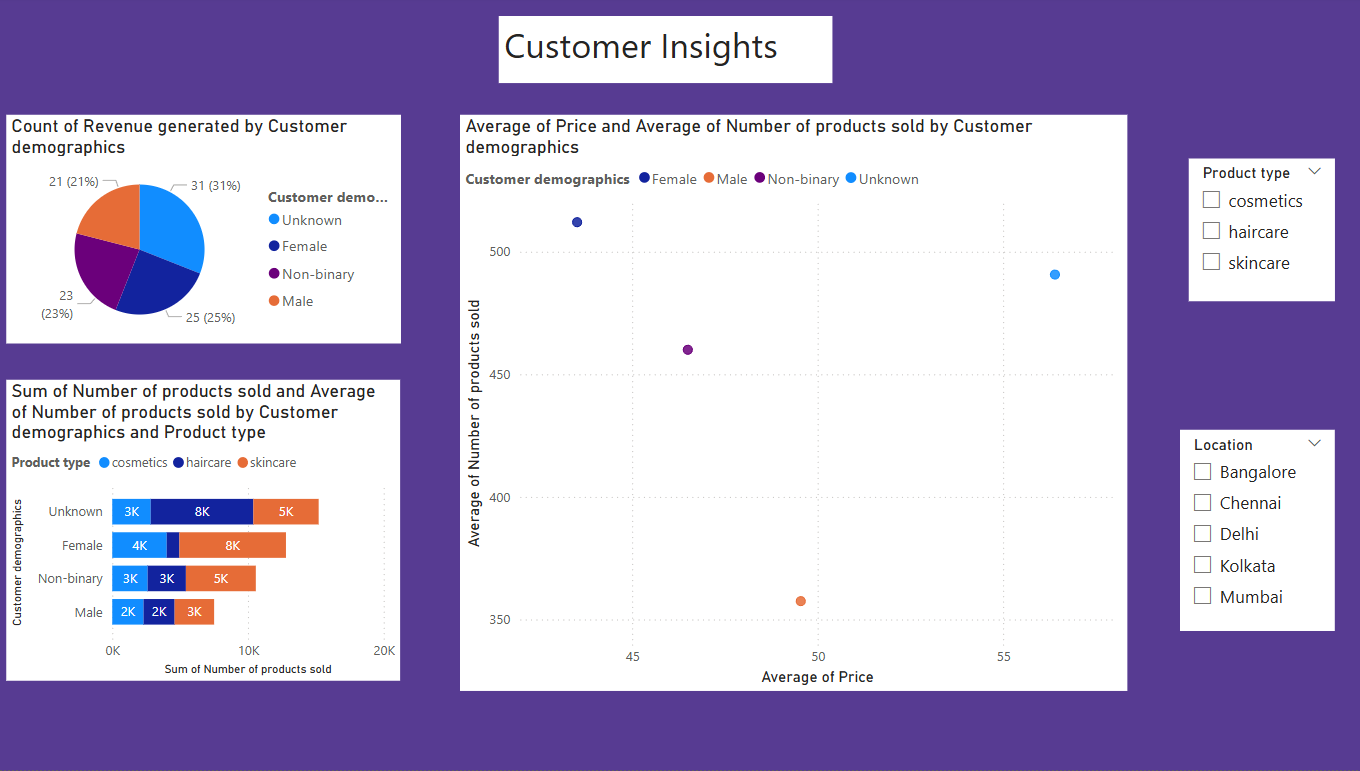

This screenshot's page, from the dashboard's own definition file:
{"tool":"powerbi","page":{"name":"Customer Insights","canvas":[1280,720],"ordinal":3},"visuals":[{"type":"textbox","box":[468.6,18.6,310.5,62.8],"z":0},{"type":"pieChart","fields":{"Category":["supply_chain_data.Customer demographics"],"Y":["CountNonNull(supply_chain_data.Revenue generated)"]},"box":[10.5,110.5,367.4,212.8],"z":1},{"type":"barChart","fields":{"Category":["supply_chain_data.Customer demographics"],"Y":["Sum(supply_chain_data.Number of products sold)"],"Series":["supply_chain_data.Product type"]},"box":[10.5,357,366.3,280.2],"z":2},{"type":"slicer","fields":{"Values":["supply_chain_data.Product type"]},"box":[1110.5,151.2,136,132.6],"z":3},{"type":"slicer","fields":{"Values":["supply_chain_data.Location"]},"box":[1102.3,403.5,144.2,187.2],"z":4},{"type":"scatterChart","fields":{"X":["Avg(supply_chain_data.Price)"],"Y":["Avg(supply_chain_data.Number of products sold)"],"Series":["supply_chain_data.Customer demographics"]},"box":[432.6,110.5,620.9,536],"z":5}]}

Visuals, with their boxes in screenshot pixels (x1, y1, x2, y2), scaled from the page's 1280x720 canvas onto the 1360x771 screenshot:
textbox: [x1=498, y1=20, x2=828, y2=87]
pieChart - supply_chain_data.Customer demographics x CountNonNull(supply_chain_data.Revenue generated): [x1=11, y1=118, x2=402, y2=346]
barChart - supply_chain_data.Customer demographics x Sum(supply_chain_data.Number of products sold): [x1=11, y1=382, x2=400, y2=682]
slicer - supply_chain_data.Product type: [x1=1180, y1=162, x2=1324, y2=304]
slicer - supply_chain_data.Location: [x1=1171, y1=432, x2=1324, y2=633]
scatterChart - Avg(supply_chain_data.Price) x Avg(supply_chain_data.Number of products sold): [x1=460, y1=118, x2=1119, y2=692]
